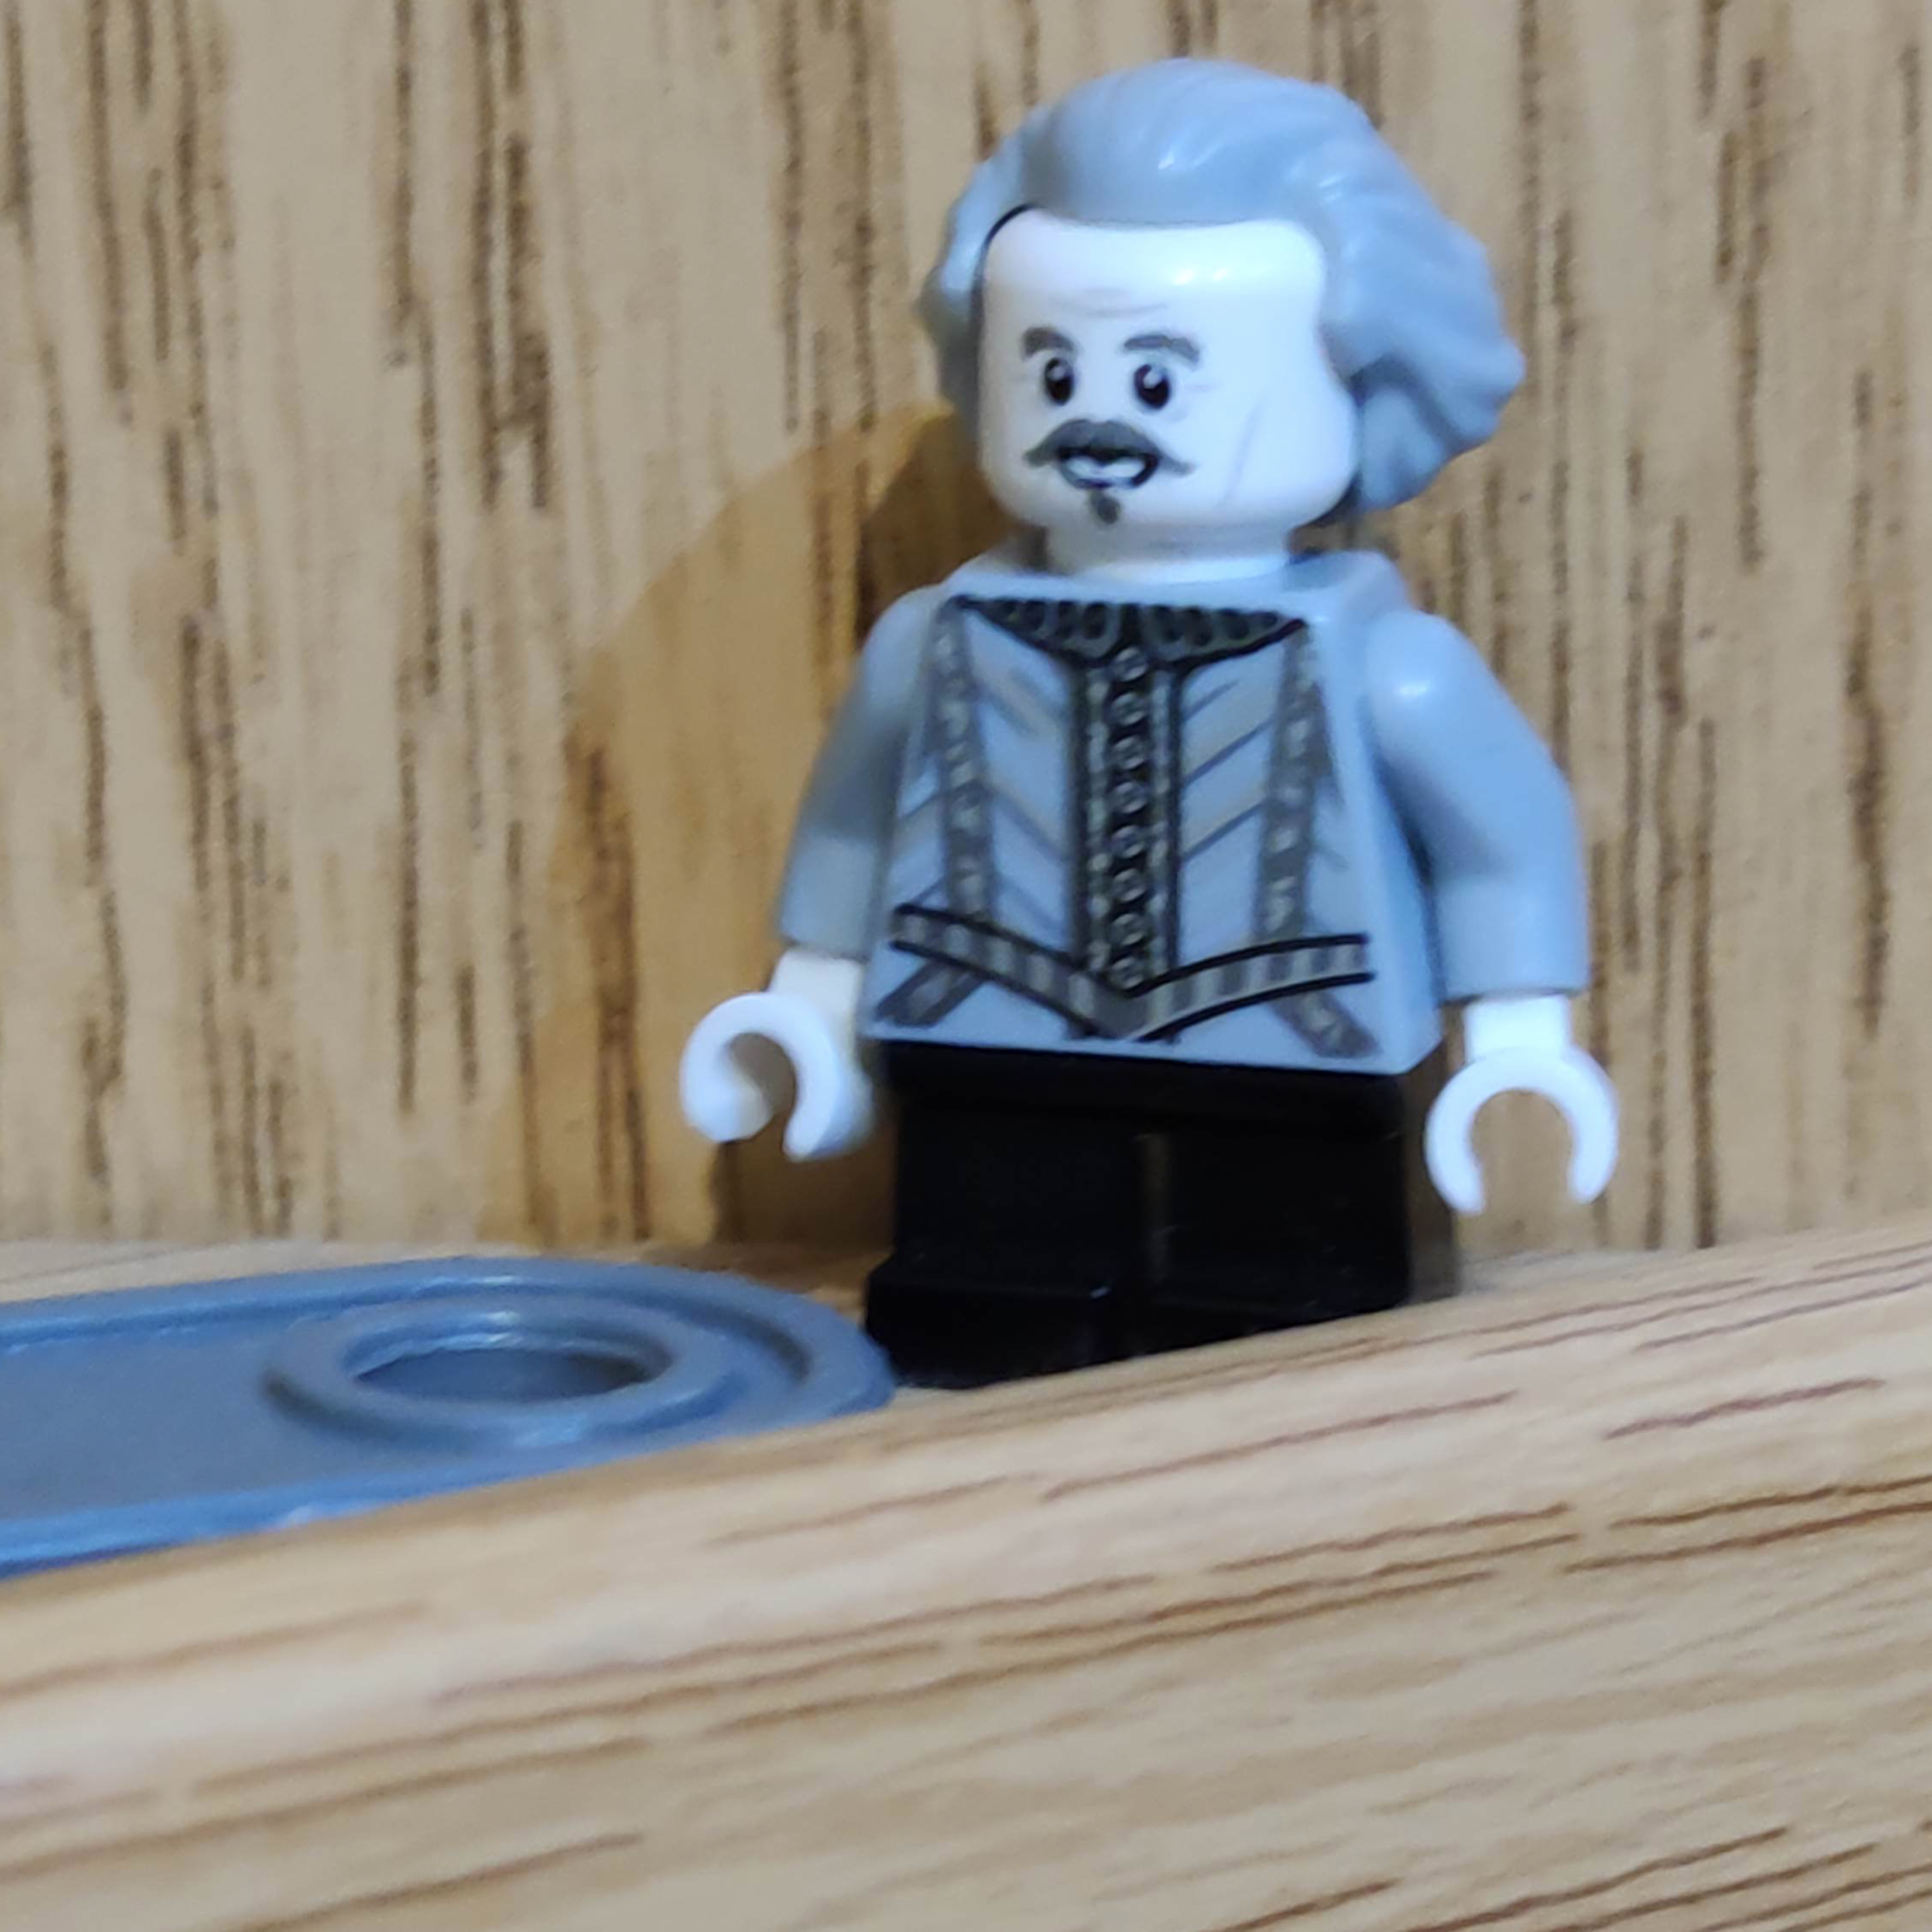lego: (674, 57, 1626, 1401)
